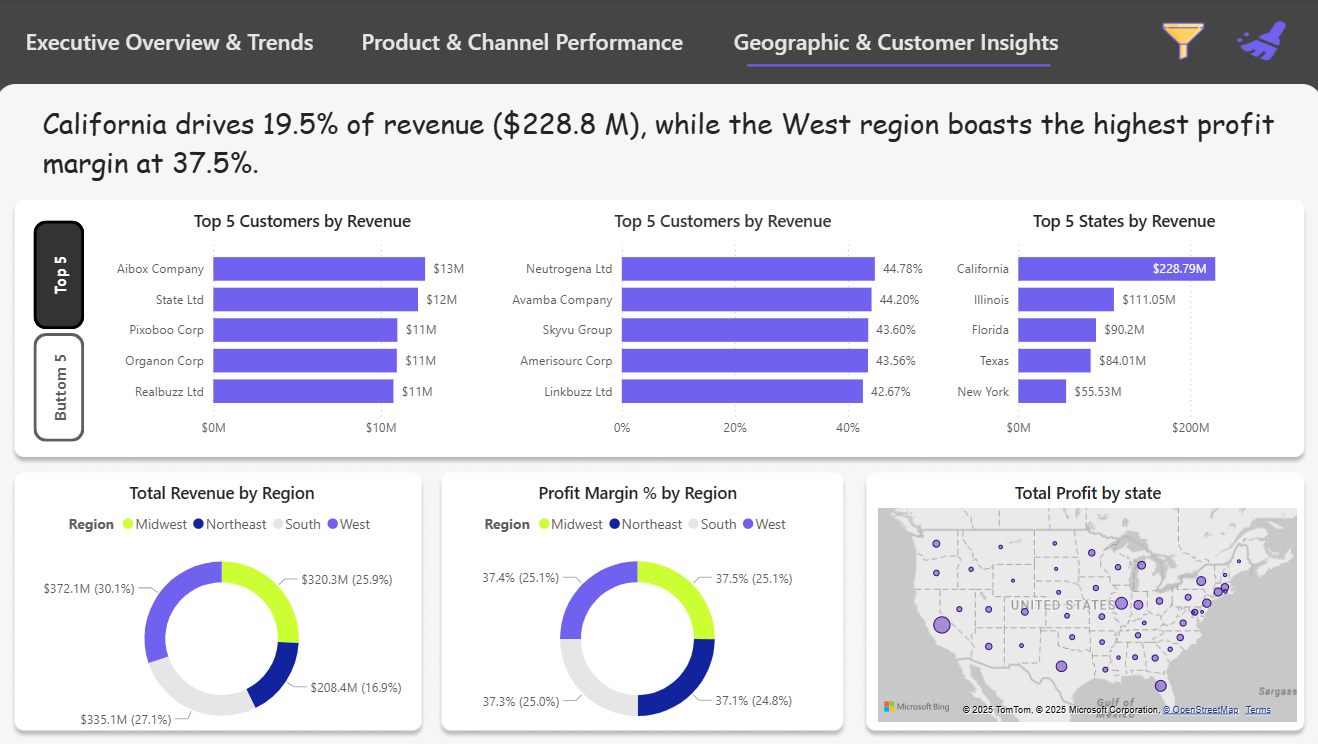

What the dashboard file says about the page in this screenshot:
{"tool":"powerbi","page":{"name":"Geographic and Customer Insights","canvas":[1280,720],"ordinal":2},"visuals":[{"type":"barChart","title":"Top 5 States by Revenue","fields":{"Category":["Sales_data.state_name"],"Y":["Measures_.Total Revenue"]},"box":[917,203.4,344.1,228.8],"z":0,"group":"g2"},{"type":"actionButton","box":[37,215,49,105],"z":0,"group":"g1"},{"type":"donutChart","title":"Total Revenue by Region","fields":{"Category":["Sales_data.us_region"],"Y":["Measures_.Total Revenue"]},"box":[20.3,466.1,394.9,254.2],"z":0},{"type":"barChart","title":"Top 5 Customers by Revenue","fields":{"Category":["Sales_data.customer_name"],"Y":["Measures_.Profit Margin %"]},"box":[486.5,203.4,430.5,228.8],"z":1000,"group":"g2"},{"type":"actionButton","box":[36.7,323.3,49,105],"z":1000,"group":"g1"},{"type":"donutChart","title":"Profit Margin % by Region","fields":{"Category":["Sales_data.us_region"],"Y":["Measures_.Profit Margin %"]},"box":[415.3,466.1,408.5,254.2],"z":1000},{"type":"actionButton","box":[337.2,14.1,342.3,55.1],"z":2000},{"type":"barChart","title":"Top 5 Customers by Revenue","fields":{"Category":["Sales_data.customer_name"],"Y":["Measures_.Total Revenue"]},"box":[105.1,203.4,381.4,228.8],"z":2000,"group":"g2"},{"type":"actionButton","box":[9,14.1,317.9,55.1],"z":3000},{"type":"actionButton","box":[702.6,14.1,333.3,55.1],"z":4000},{"type":"group","id":"g1","title":"top 5 button","box":[36.7,215,48.3,213.3],"z":6000},{"type":"map","fields":{"Category":["Sales_data.state"],"Size":["Measures_.Total Profit"]},"box":[846.9,465.7,413.8,237.7],"z":7000},{"type":"group","id":"g2","title":"top 5","box":[105.1,203.4,1155.9,228.8],"z":9000},{"type":"textbox","title":"Top Text","box":[40,96.2,1222.5,120],"z":11000},{"type":"actionButton","box":[1188,14,70,55],"z":12000},{"type":"actionButton","box":[1120,21,53,42],"z":13000}]}

Visuals, with their boxes in screenshot pixels (x1, y1, x2, y2), scaled from the page's 1280x720 canvas onto the 1318x744 screenshot:
"Top 5 States by Revenue" barChart: 944,210,1299,447
actionButton: 38,222,89,331
"Total Revenue by Region" donutChart: 21,482,428,743
"Top 5 Customers by Revenue" barChart: 501,210,944,447
actionButton: 38,334,88,443
"Profit Margin % by Region" donutChart: 428,482,848,743
actionButton: 347,15,700,72
"Top 5 Customers by Revenue" barChart: 108,210,501,447
actionButton: 9,15,337,72
actionButton: 723,15,1067,72
"top 5 button" group: 38,222,88,443
map - Sales_data.state x Measures_.Total Profit: 872,481,1298,727
"top 5" group: 108,210,1298,447
"Top Text" textbox: 41,99,1300,223
actionButton: 1223,14,1295,71
actionButton: 1153,22,1208,65
